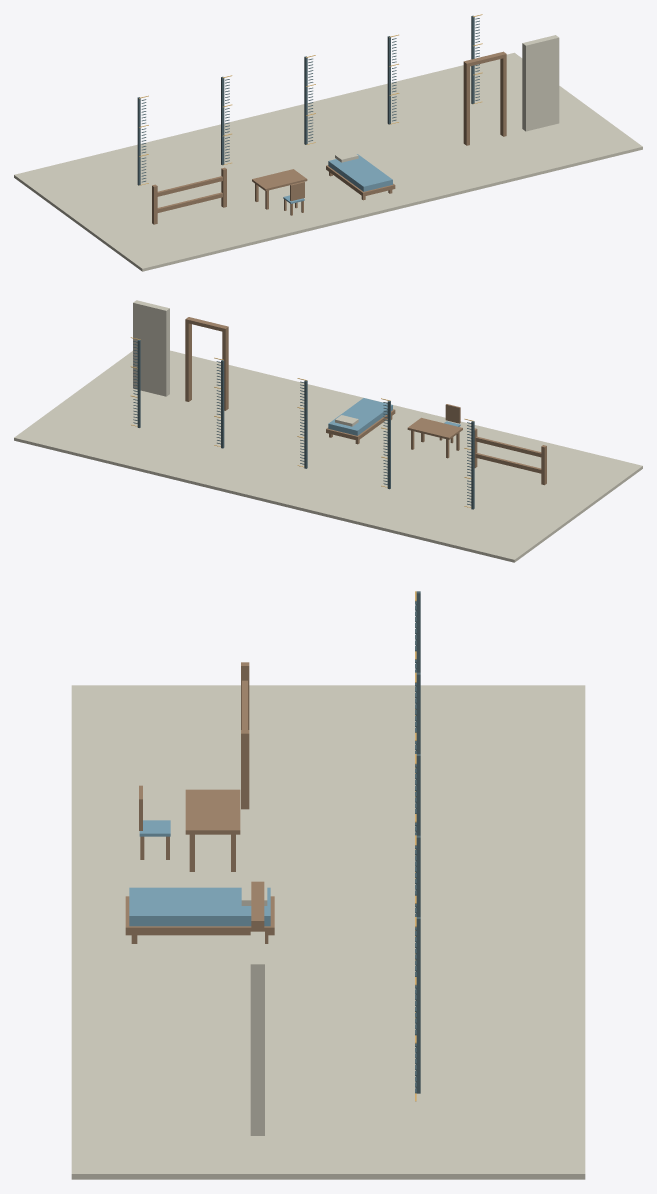
The model's file is ranch_scale_yard.glb.
3 renders of one model, top to bottom at view 1: azimuth 30°, elevation 25°; view 2: azimuth 150°, elevation 25°; view 3: azimuth 270°, elevation 25°, orthographic. The views are drawn at different scales.
Parts seen in each view (by area): view 1: CalibrationFloor-col, WallSample, BedMattress, TableTop, DoorJamb, DoorJamb.001, BedFrame, FenceRail.001, FenceRail; view 2: CalibrationFloor-col, WallSample, BedMattress, TableTop, DoorJamb.001, DoorJamb, FenceRail, FenceRail.001; view 3: CalibrationFloor-col, BedMattress, WallSample, TableTop, BedFrame, MetreStaff.004.
Boxes of the visible parts, x1=… form: CalibrationFloor-col: x1=14, y1=52, x2=642, y2=271; WallSample: x1=522, y1=35, x2=559, y2=131; BedMattress: x1=328, y1=154, x2=392, y2=191; TableTop: x1=252, y1=169, x2=307, y2=190; DoorJamb: x1=463, y1=63, x2=469, y2=145; DoorJamb.001: x1=500, y1=55, x2=506, y2=136; BedFrame: x1=326, y1=165, x2=395, y2=196; FenceRail.001: x1=157, y1=176, x2=222, y2=196; FenceRail: x1=157, y1=192, x2=222, y2=212; CalibrationFloor-col: x1=14, y1=350, x2=642, y2=562; WallSample: x1=133, y1=300, x2=169, y2=396; BedMattress: x1=328, y1=398, x2=392, y2=435; TableTop: x1=407, y1=417, x2=462, y2=439; DoorJamb.001: x1=185, y1=320, x2=191, y2=401; DoorJamb: x1=222, y1=329, x2=228, y2=410; FenceRail: x1=475, y1=453, x2=541, y2=473; FenceRail.001: x1=475, y1=436, x2=541, y2=457; CalibrationFloor-col: x1=71, y1=685, x2=585, y2=1179; BedMattress: x1=129, y1=887, x2=270, y2=926; WallSample: x1=250, y1=931, x2=264, y2=1135; TableTop: x1=185, y1=789, x2=240, y2=834; BedFrame: x1=125, y1=896, x2=274, y2=935; MetreStaff.004: x1=416, y1=917, x2=420, y2=1093.
Bounding box in the file's own units: 18 × 3.11 × 8.
